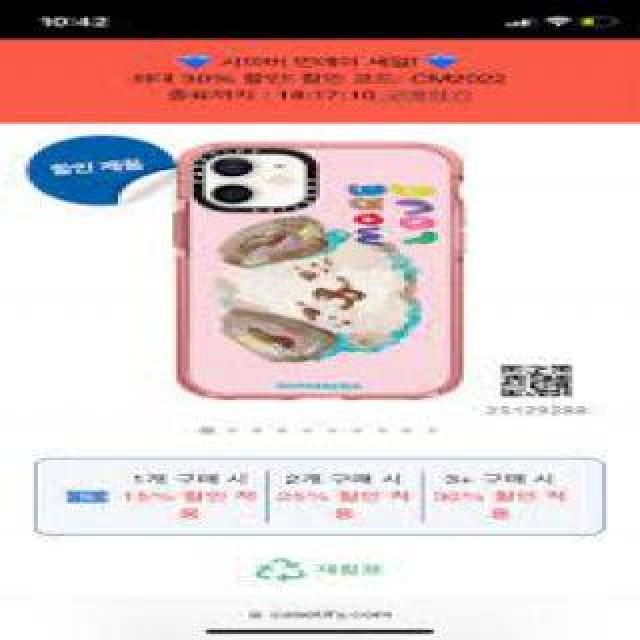smart phone: (153, 124, 508, 438)
